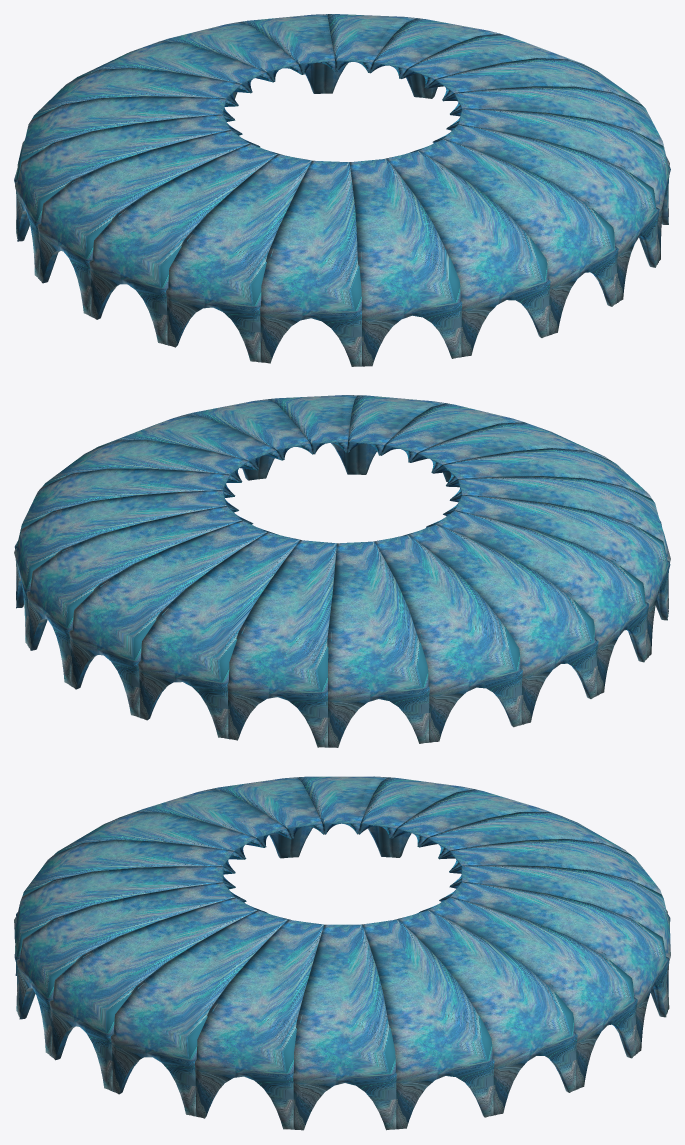
File: Final_dome_cake_slice_instanced_low.fbx
The picture shows the model from 3 angles, top to bottom: view 1: azimuth 30°, elevation 25°; view 2: azimuth 150°, elevation 25°; view 3: azimuth 270°, elevation 25°; orthographic projection.
Visible parts, largest first — view 1: Cake_slice_low19, Cake_slice_low, Cake_slice_low18, Cake_slice_low1, Cake_slice_low17, Cake_slice_low2, Cake_slice_low16, Cake_slice_low3, Cake_slice_low15, Cake_slice_low4, Cake_slice_low14, Cake_slice_low5 (+8 smaller); view 2: Cake_slice_low13, Cake_slice_low12, Cake_slice_low14, Cake_slice_low11, Cake_slice_low15, Cake_slice_low10, Cake_slice_low16, Cake_slice_low9, Cake_slice_low17, Cake_slice_low8, Cake_slice_low18, Cake_slice_low7 (+8 smaller); view 3: Cake_slice_low6, Cake_slice_low5, Cake_slice_low7, Cake_slice_low4, Cake_slice_low8, Cake_slice_low3, Cake_slice_low9, Cake_slice_low2, Cake_slice_low10, Cake_slice_low1, Cake_slice_low11, Cake_slice_low (+8 smaller).
Boxes of the visible parts, x1,y1,x2,y2 form: Cake_slice_low19: (260,160,361,366); Cake_slice_low: (349,158,462,366); Cake_slice_low18: (166,154,311,362); Cake_slice_low1: (386,150,550,356); Cake_slice_low17: (89,144,282,344); Cake_slice_low2: (412,139,618,334); Cake_slice_low16: (37,130,258,316); Cake_slice_low3: (433,124,659,302); Cake_slice_low15: (15,114,241,278); Cake_slice_low4: (446,108,670,262); Cake_slice_low14: (14,96,237,233); Cake_slice_low5: (443,86,669,165); Cake_slice_low13: (327,541,429,747); Cake_slice_low12: (227,540,337,747); Cake_slice_low14: (374,535,522,742); Cake_slice_low11: (138,532,300,738); Cake_slice_low15: (404,524,598,724); Cake_slice_low10: (69,520,273,717); Cake_slice_low16: (427,510,648,695); Cake_slice_low9: (26,506,251,685); Cake_slice_low17: (443,495,670,657); Cake_slice_low8: (14,490,238,646); Cake_slice_low18: (446,476,670,613); Cake_slice_low7: (14,468,241,548); Cake_slice_low6: (293,924,396,1130); Cake_slice_low5: (195,919,324,1129); Cake_slice_low7: (362,919,494,1129); Cake_slice_low4: (111,910,290,1116); Cake_slice_low8: (394,910,577,1115); Cake_slice_low3: (49,897,264,1090); Cake_slice_low9: (420,897,637,1089); Cake_slice_low2: (17,882,245,1055); Cake_slice_low10: (440,881,668,1054); Cake_slice_low1: (14,866,235,1014); Cake_slice_low11: (449,865,670,1012); Cake_slice_low: (16,839,245,916).
Size of the model in its own units: 5.2 by 1.03 by 5.2.
